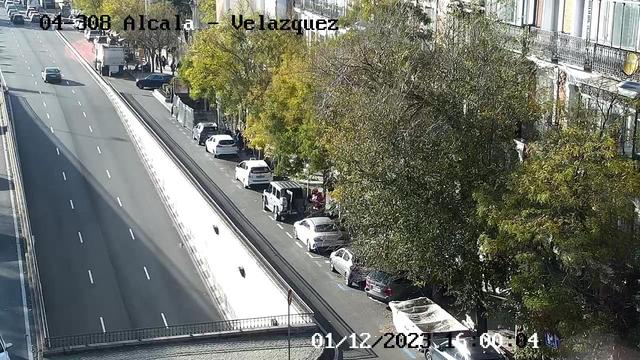car: (364, 268, 433, 303), (329, 248, 374, 287), (293, 217, 344, 251), (262, 181, 304, 221), (235, 160, 273, 188), (205, 135, 239, 159), (136, 73, 176, 89), (193, 122, 217, 145), (41, 65, 61, 83)
truck: (92, 43, 125, 76)
